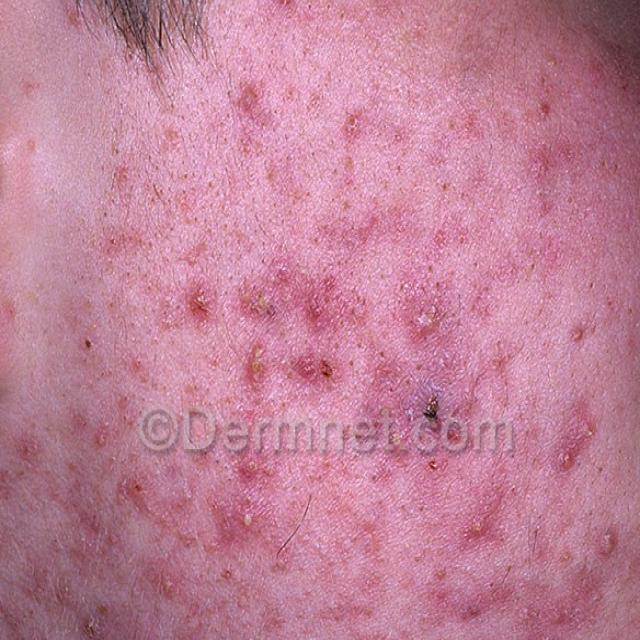Acne: (0, 466, 318, 640), (322, 78, 469, 337), (186, 255, 303, 434), (528, 355, 621, 504), (390, 347, 488, 485), (490, 610, 563, 640)
